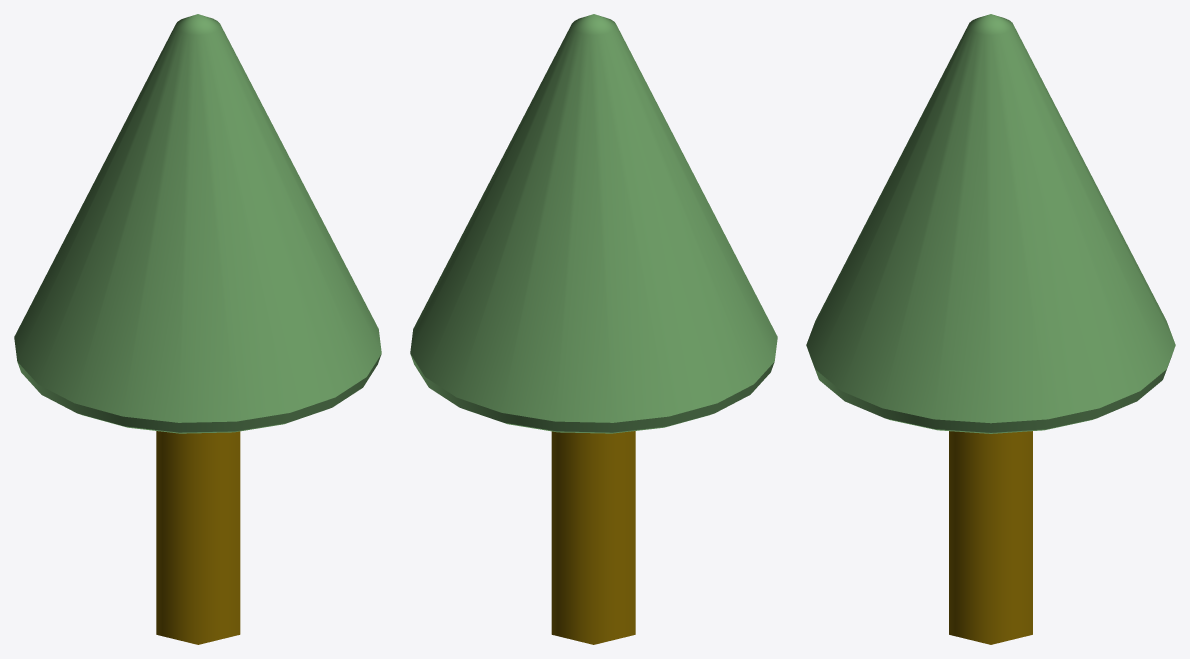
Rendered from SM_Tree_2.fbx.
3 renders of one model, left to right at view 1: azimuth 30°, elevation 25°; view 2: azimuth 150°, elevation 25°; view 3: azimuth 270°, elevation 25°, orthographic.
Parts seen in each view (by area): view 1: pCylinder4; view 2: pCylinder4; view 3: pCylinder4.
Part boxes in pixels (x1,y1,x2,y2): pCylinder4: (14,14,381,644); pCylinder4: (410,14,777,644); pCylinder4: (806,14,1175,644).
Size of the model in its own units: 0.6921 by 1.26 by 0.6921.
